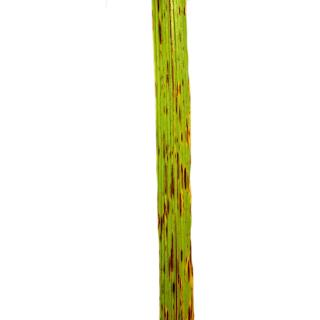Bercak-Cokelat-Sempit: (152, 0, 194, 320)
